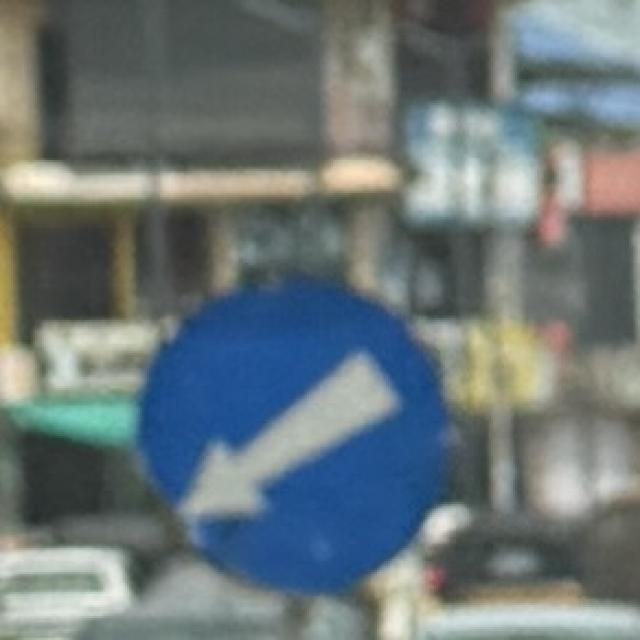KEEP_LEFT: (130, 281, 453, 601)
